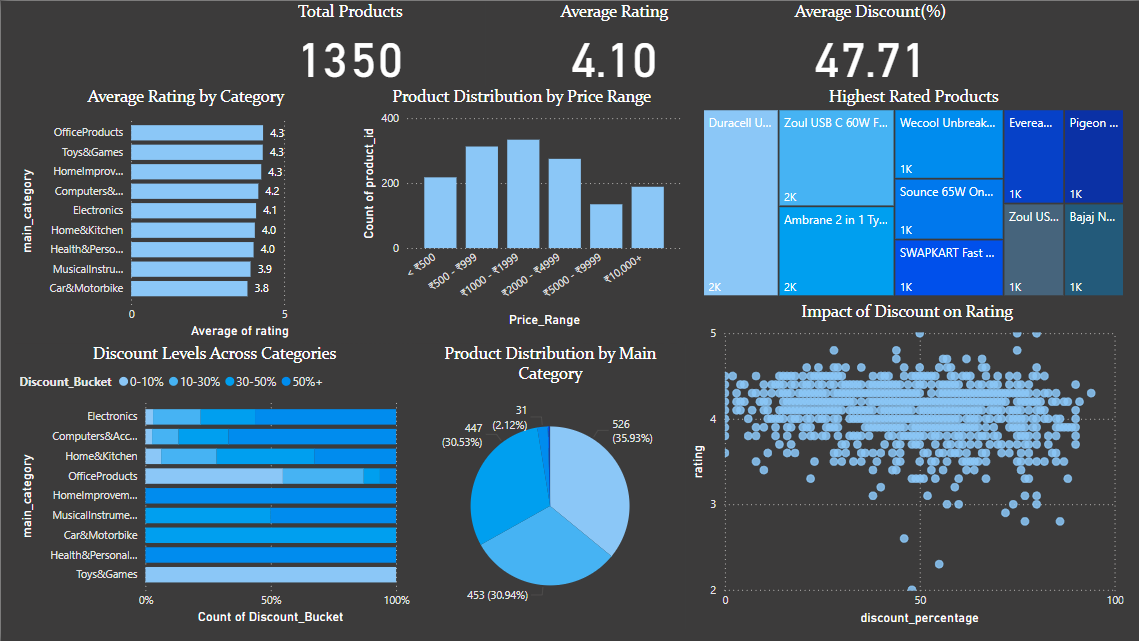

This screenshot's page, from the dashboard's own definition file:
{"tool":"powerbi","page":{"name":"Page 1","canvas":[1280,720],"ordinal":0},"visuals":[{"type":"card","title":"Total Products","fields":{"Values":["Count(Amazon_cleaned.product_id)"]},"box":[240,0,304,96],"z":0},{"type":"card","title":"Average Rating","fields":{"Values":["Avg(Amazon_cleaned.rating)"]},"box":[544,0,288,96],"z":1000},{"type":"card","title":"Average Discount(%)","fields":{"Values":["Avg(Amazon_cleaned.discount_percentage)"]},"box":[832,0,288,96],"z":2000},{"type":"barChart","title":"Average Rating by Category","fields":{"Category":["Amazon_cleaned.main_category"],"Y":["Avg(Amazon_cleaned.rating)"]},"box":[16,96,384,288],"z":3000},{"type":"scatterChart","title":"Impact of Discount on Rating","fields":{"Y":["Amazon_cleaned.rating"],"X":["Amazon_cleaned.discount_percentage"]},"box":[768,336,496,368],"z":4000},{"type":"hundredPercentStackedBarChart","title":"Discount Levels Across Categories","fields":{"Category":["Amazon_cleaned.main_category"],"Y":["CountNonNull(Amazon_cleaned.Discount_Bucket)"],"Series":["Amazon_cleaned.Discount_Bucket"]},"box":[16,384,448,320],"z":5000},{"type":"treemap","title":"\tHighest Rated Products","fields":{"Group":["Amazon_cleaned.product_name"],"Values":["Sum(Amazon_cleaned.rating_count)"]},"box":[784,96,480,240],"z":6000},{"type":"pieChart","title":"Product Distribution by Main Category","fields":{"Category":["Amazon_cleaned.main_category"],"Y":["CountNonNull(Amazon_cleaned.product_id)"]},"box":[464,384,304,320],"z":7000},{"type":"clusteredColumnChart","title":"Product Distribution by Price Range","fields":{"Category":["Amazon_cleaned.Price_Range"],"Y":["CountNonNull(Amazon_cleaned.product_id)"]},"box":[399.6,95.4,368.8,274.8],"z":8000}]}

Visuals, with their boxes in screenshot pixels (x1, y1, x2, y2), scaled from the page's 1280x720 canvas onto the 1139x641 screenshot:
"Total Products" card: [left=214, top=0, right=484, bottom=85]
"Average Rating" card: [left=484, top=0, right=740, bottom=85]
"Average Discount(%)" card: [left=740, top=0, right=997, bottom=85]
"Average Rating by Category" barChart: [left=14, top=85, right=356, bottom=342]
"Impact of Discount on Rating" scatterChart: [left=683, top=299, right=1125, bottom=627]
"Discount Levels Across Categories" hundredPercentStackedBarChart: [left=14, top=342, right=413, bottom=627]
"	Highest Rated Products" treemap: [left=698, top=85, right=1125, bottom=299]
"Product Distribution by Main Category" pieChart: [left=413, top=342, right=683, bottom=627]
"Product Distribution by Price Range" clusteredColumnChart: [left=356, top=85, right=684, bottom=330]
